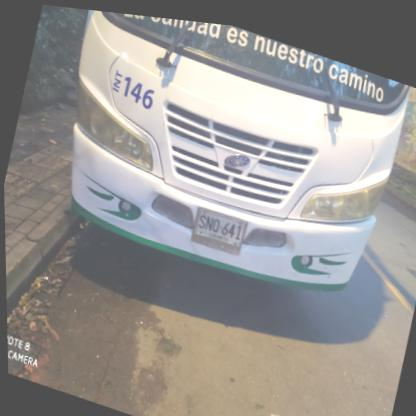placa: (190, 200, 246, 247)
